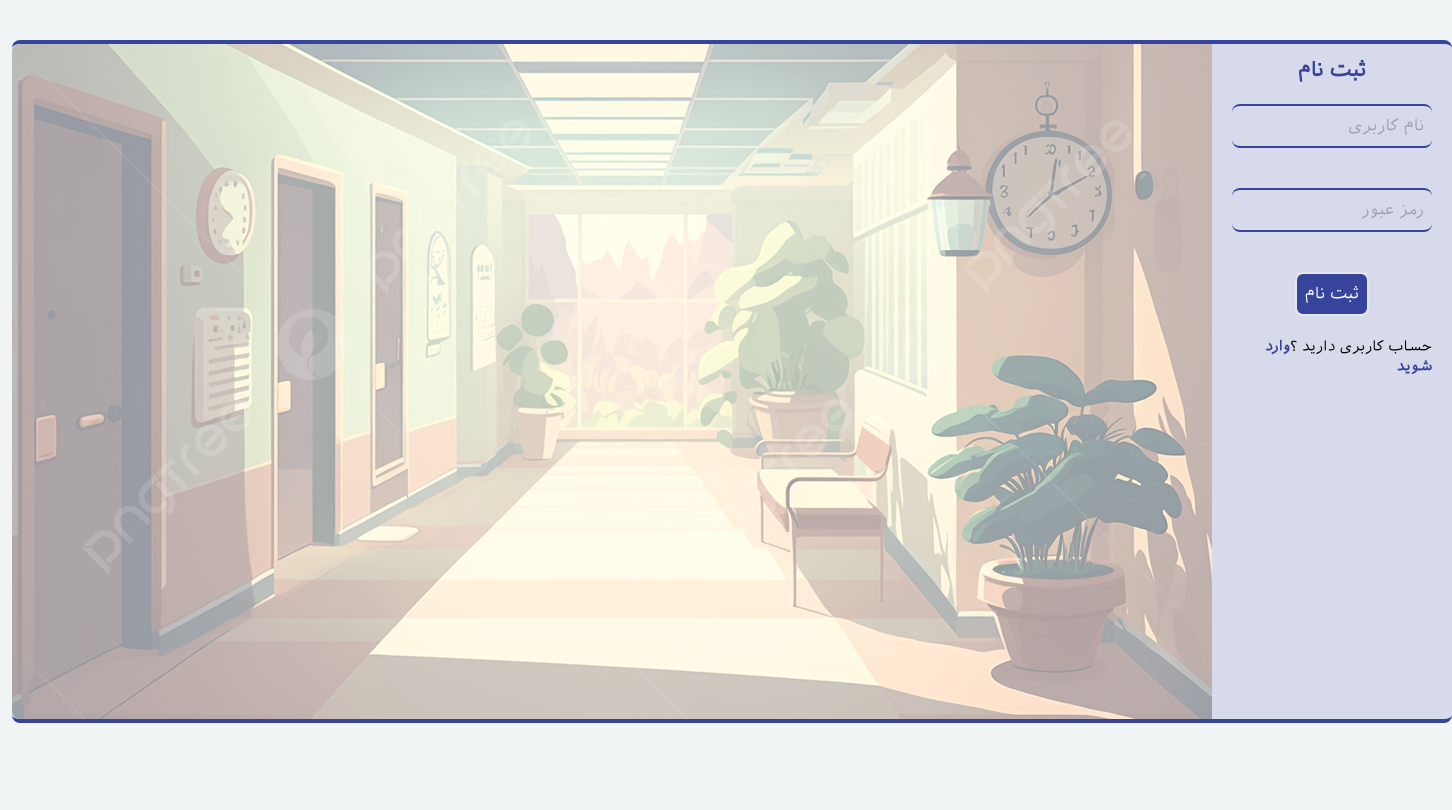
Test: testing error handling › password error test
Expected: the text "پسورد باید بیشتر از 5 کاراکتر باشد" is not shown
In the field with placeholder "نام کاربری": (1332, 126) [1232,104,1432,148], type "mamad@gmail.com"
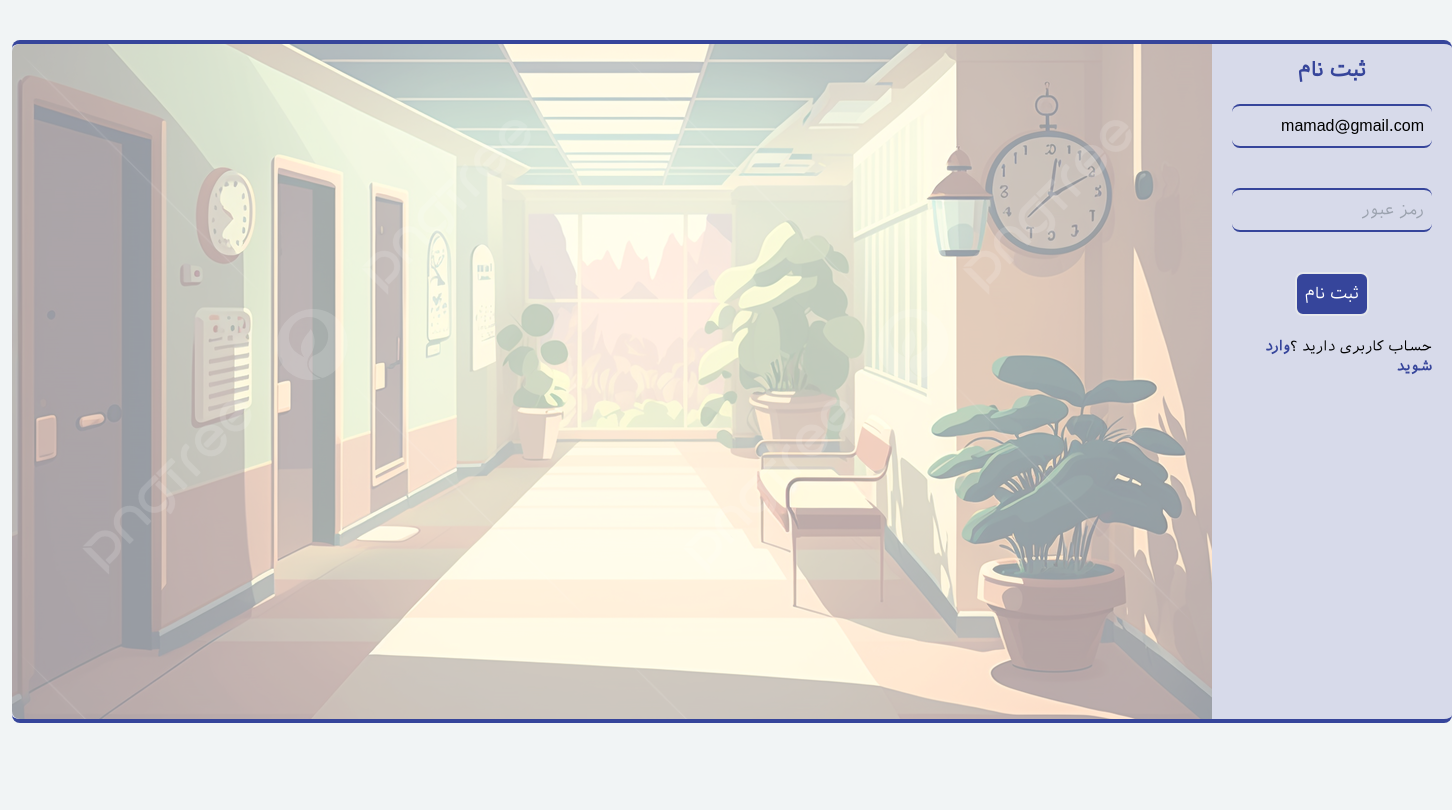
In the password field with placeholder "رمز عبور": (1332, 210) [1232,188,1432,232], type "123"
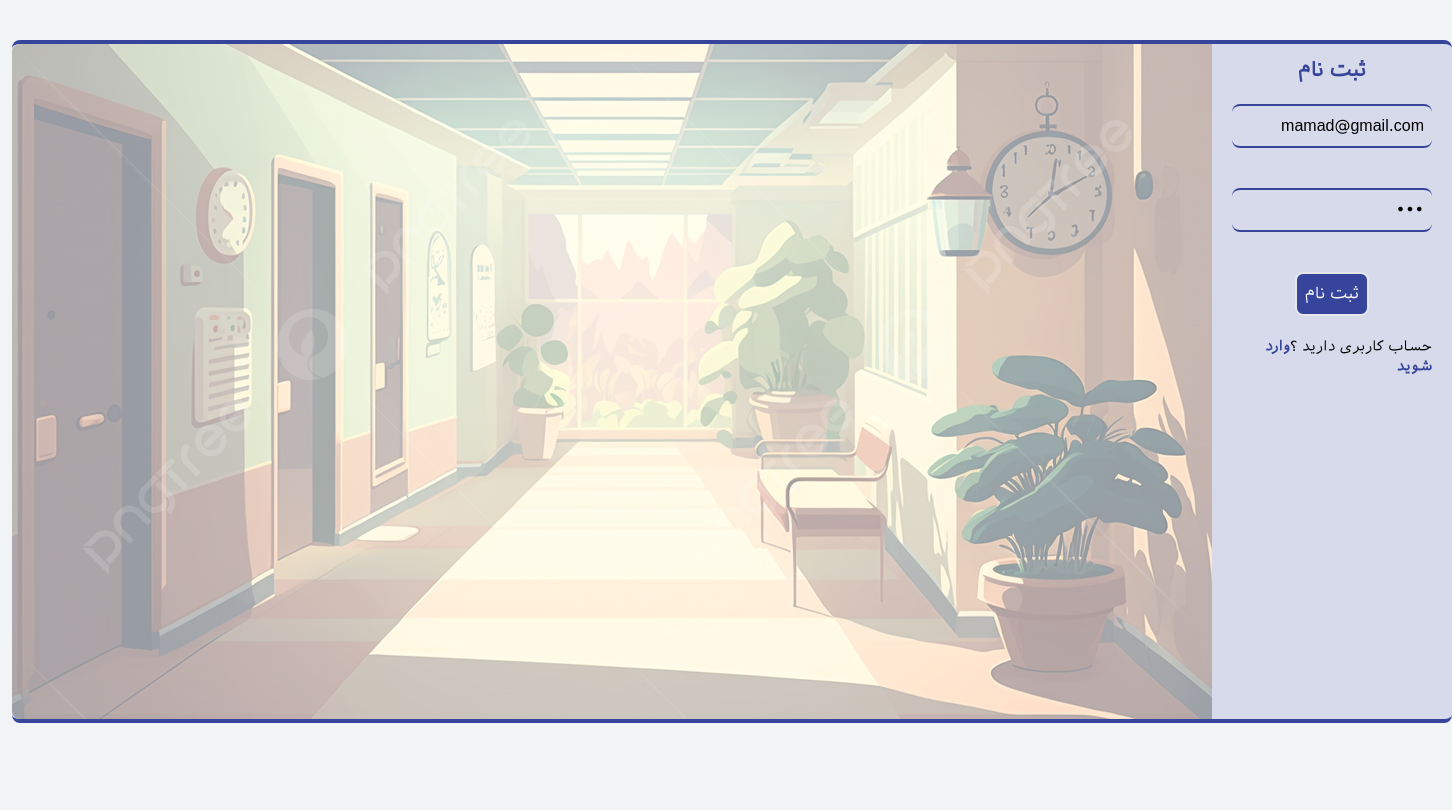
Click the button: (1332, 294) [1295,272,1369,316]
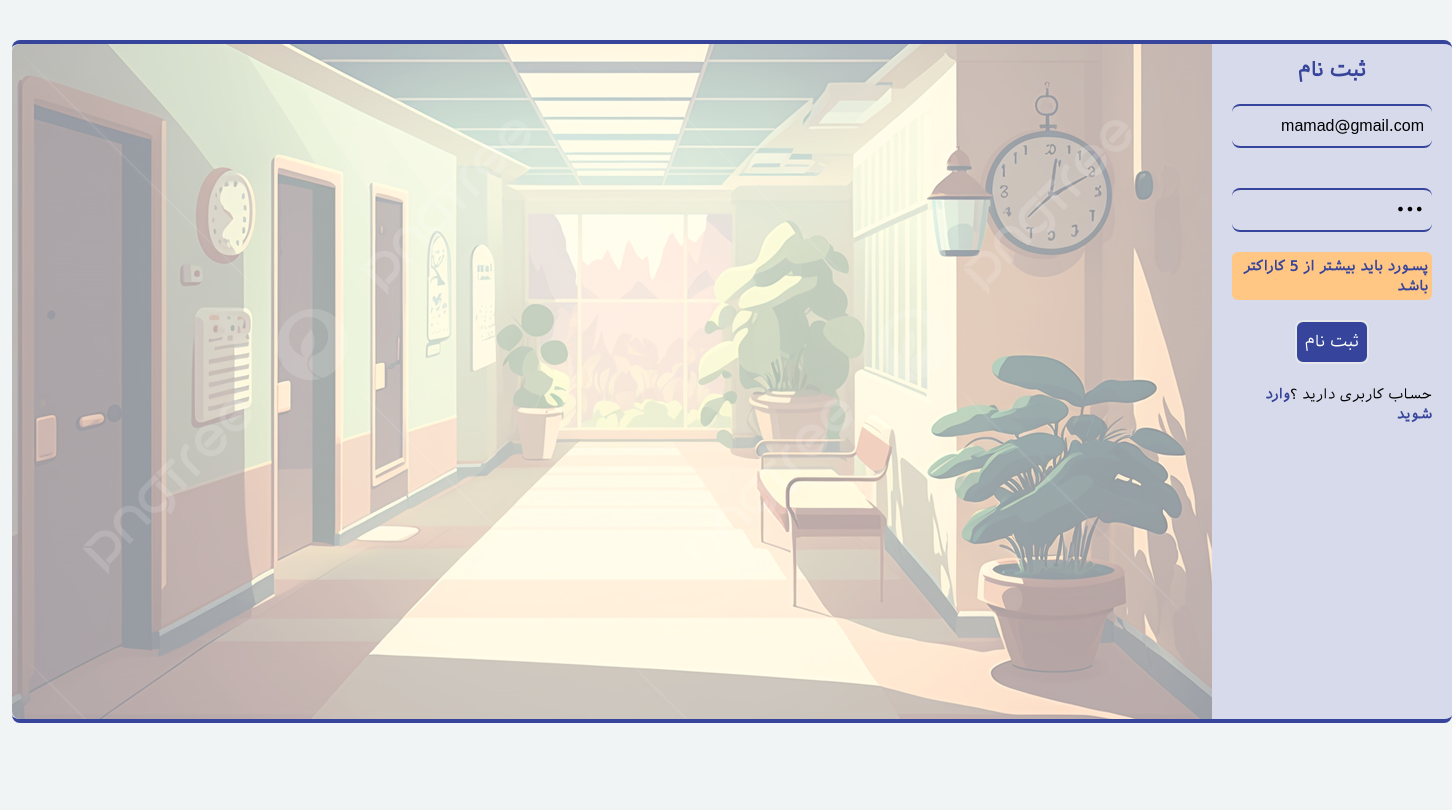
Result: the text "پسورد باید بیشتر از 5 کاراکتر باشد" is shown at [1232,252,1432,300]
